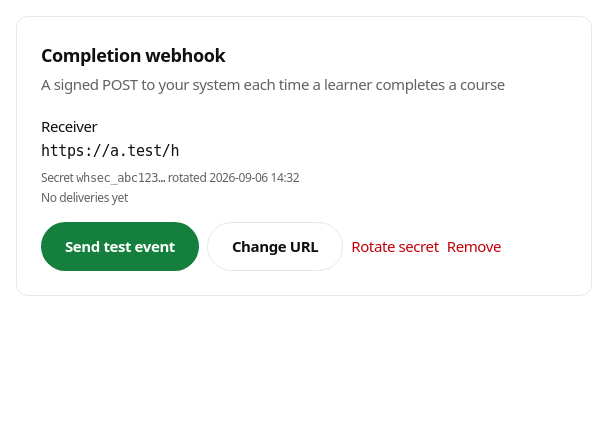
Test: TenantWebhookCard › removes through a two-step control
Click the button "Remove" at (474, 246), box [447,222,501,271]
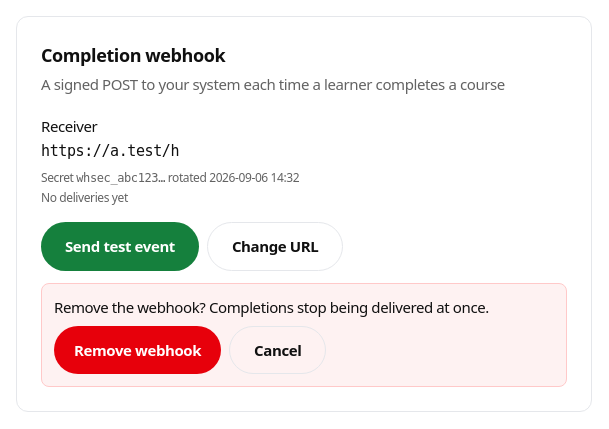
Click the button "Remove webhook" at (138, 350), box [54,326,221,374]
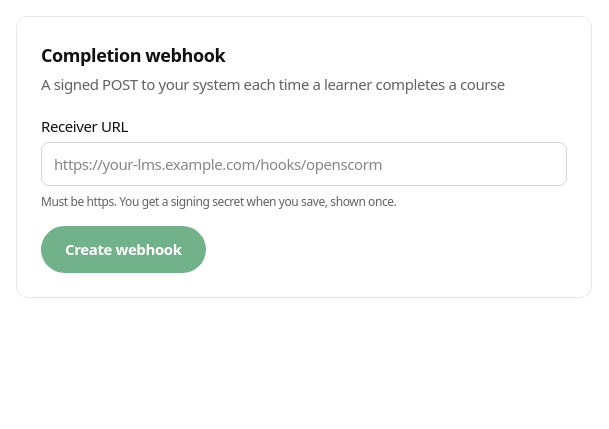
Expected: the field labelled "Receiver URL" is shown, [41,142,567,186]
